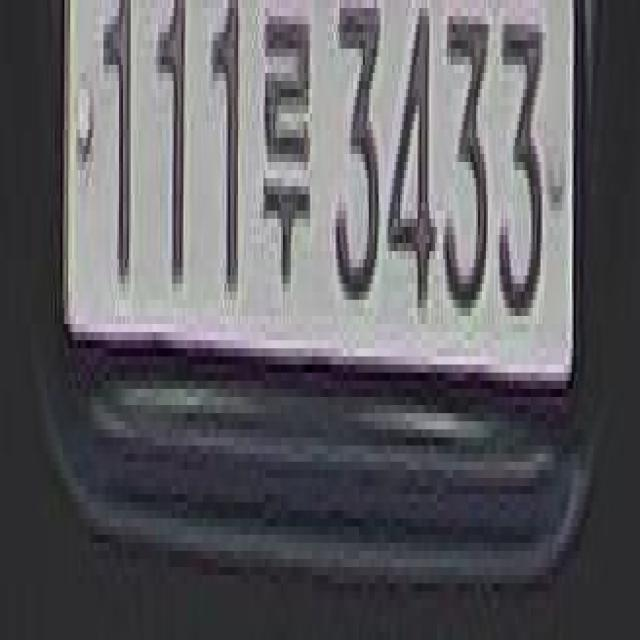illegal_plate: (64, 9, 583, 426)
